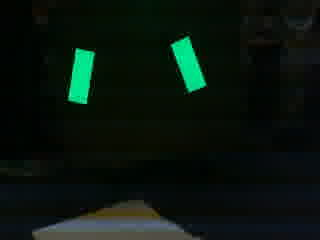target: (62, 32, 210, 105)
